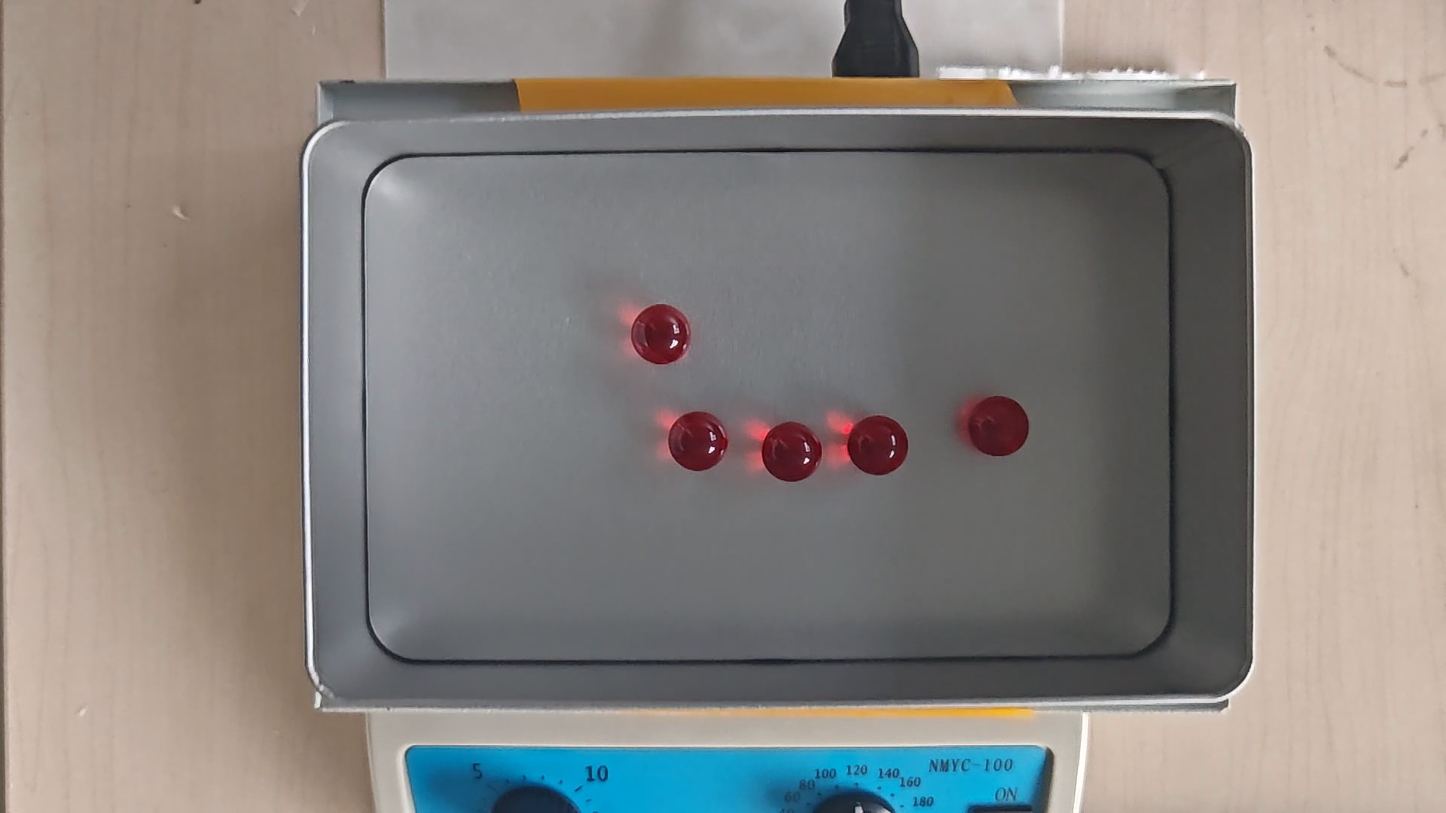ball: (759, 421, 822, 482), (847, 413, 908, 476), (969, 396, 1029, 457), (630, 305, 691, 364), (669, 411, 728, 472)
container: (363, 150, 1173, 659)
